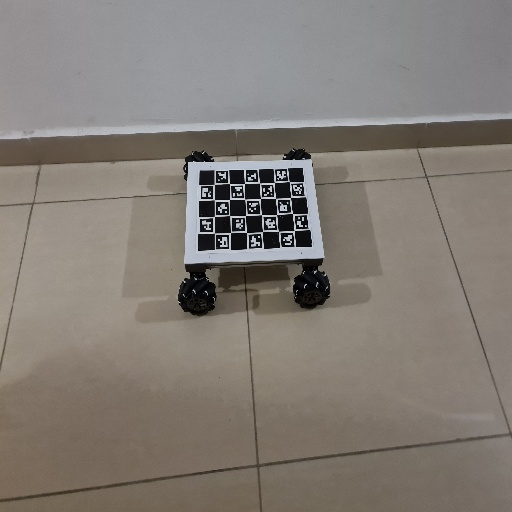Omniwheel: (178, 148, 333, 318)
